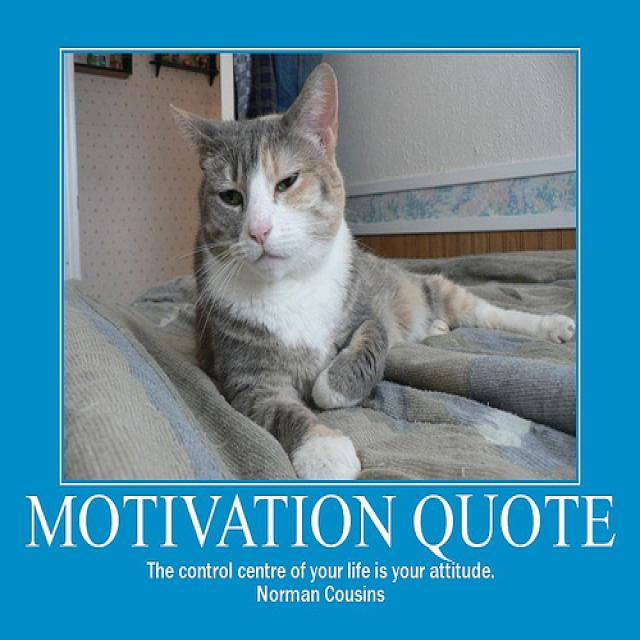cat: (169, 62, 576, 481)
